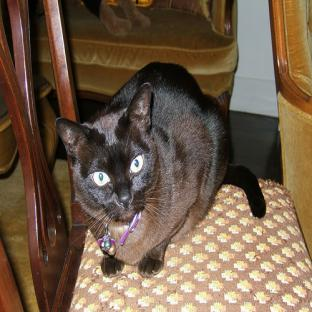Animal: (56, 62, 266, 277)
